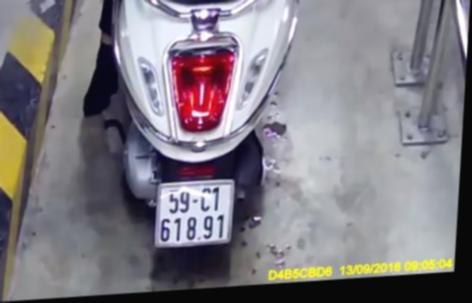License_Plate: (146, 171, 248, 252)
